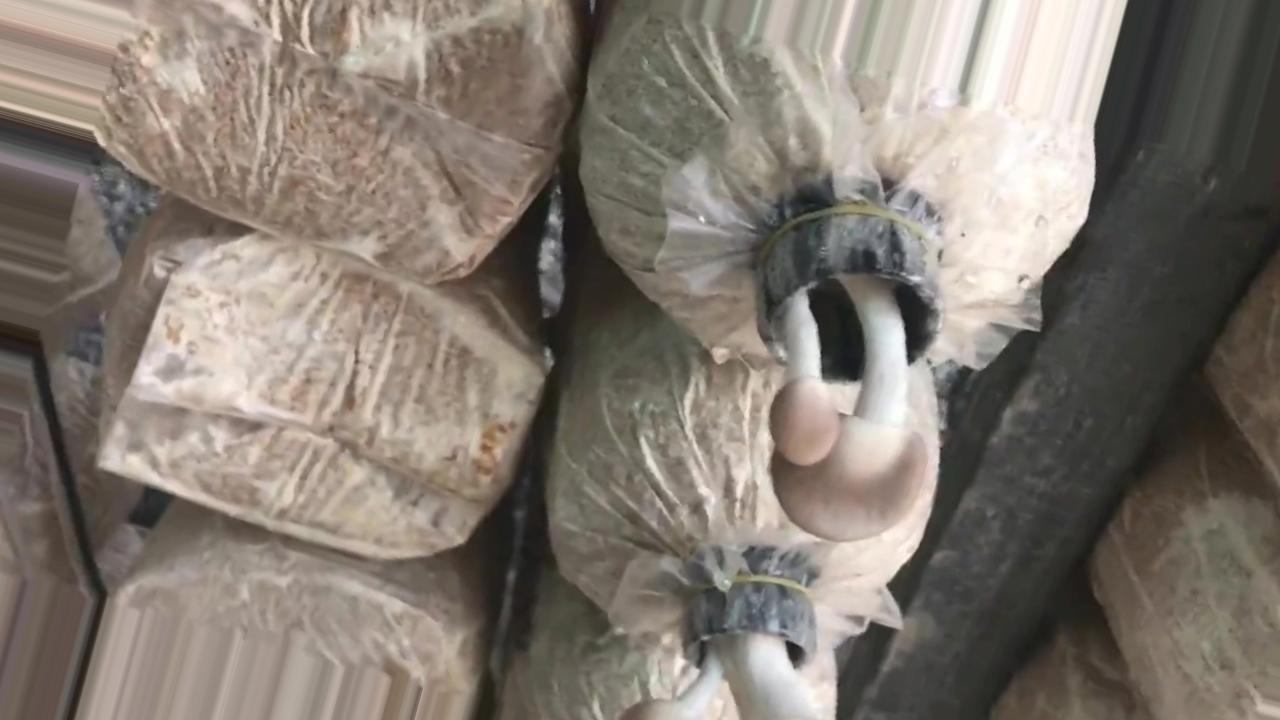nam: (766, 209, 939, 542), (620, 570, 817, 720)
